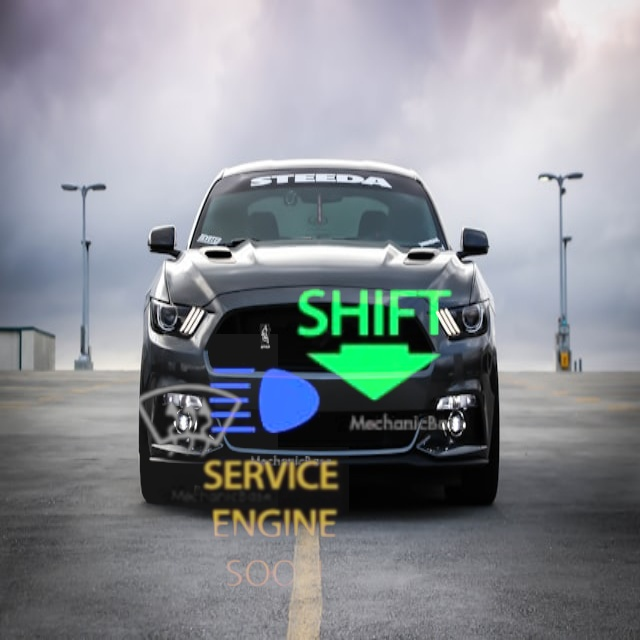symbol: (271, 238, 473, 440), (102, 334, 278, 510), (191, 447, 349, 605), (194, 330, 337, 473)
